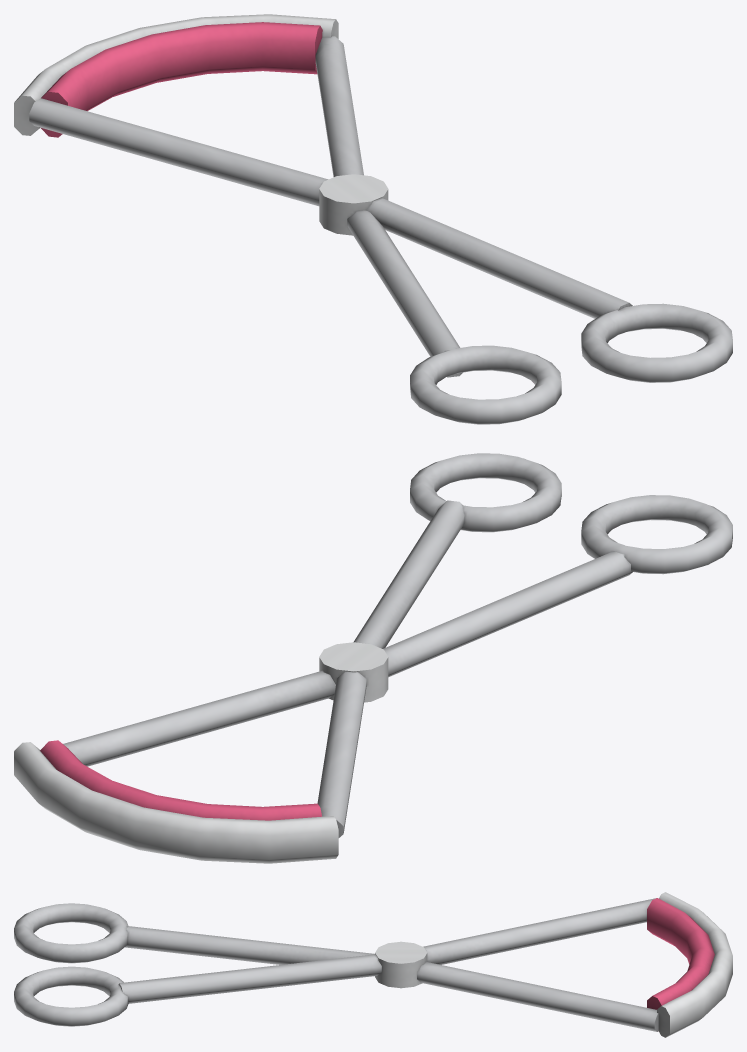
The model's file is eyelash_curler.glb.
The picture shows the model from 3 angles, top to bottom: view 1: azimuth 30°, elevation 25°; view 2: azimuth 150°, elevation 25°; view 3: azimuth 270°, elevation 25°; orthographic projection. The views are drawn at different scales.
Parts seen in each view (by area): view 1: d3_eyelash_curler; view 2: d3_eyelash_curler; view 3: d3_eyelash_curler.
Boxes of the visible parts, <box> form: d3_eyelash_curler: <box>14,14,732,424</box>; d3_eyelash_curler: <box>14,453,732,863</box>; d3_eyelash_curler: <box>14,892,732,1037</box>.
Size of the model in its own units: 0.0379 by 0.005 by 0.096.
Materials: 1 (1 with a texture image).
